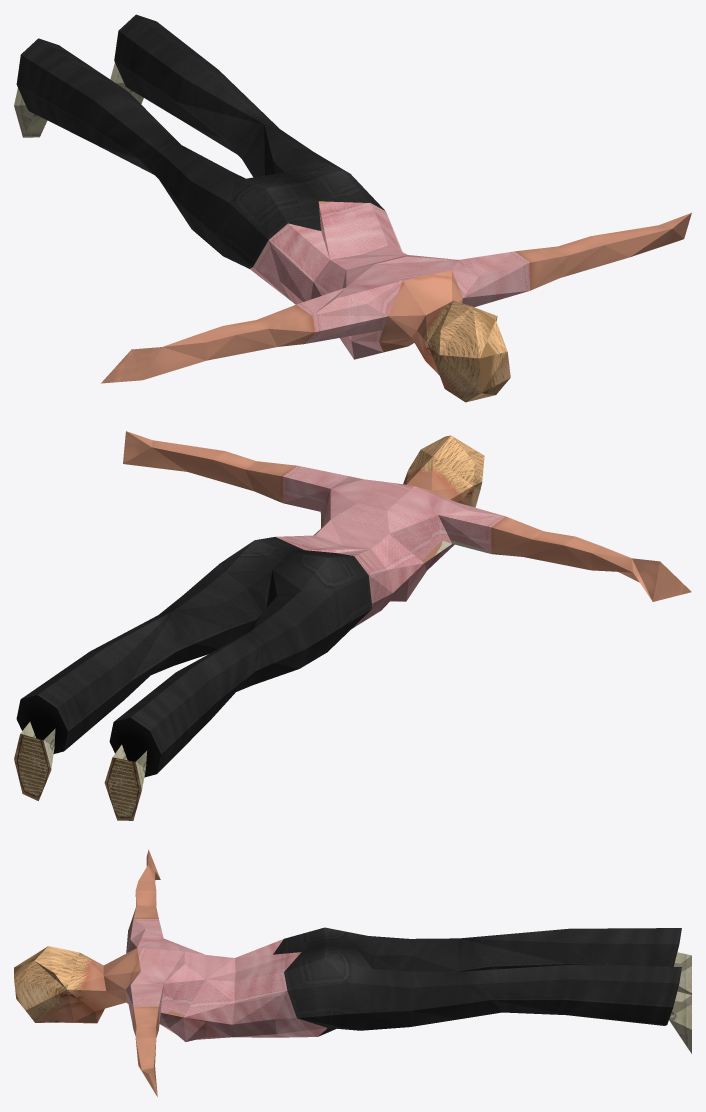
The model's file is tomdrinwoman2_3klow_wtf.obj.
The picture shows the model from 3 angles, top to bottom: view 1: azimuth 30°, elevation 25°; view 2: azimuth 150°, elevation 25°; view 3: azimuth 270°, elevation 25°; orthographic projection. The views are drawn at different scales.
Visible parts, largest first — view 1: group1; view 2: group1; view 3: group1.
Part boxes in pixels (<box>): group1: <box>14,14,691,402</box>; group1: <box>14,431,691,820</box>; group1: <box>14,850,691,1096</box>.
Size of the model in its own units: 542 by 97.15 by 654.
